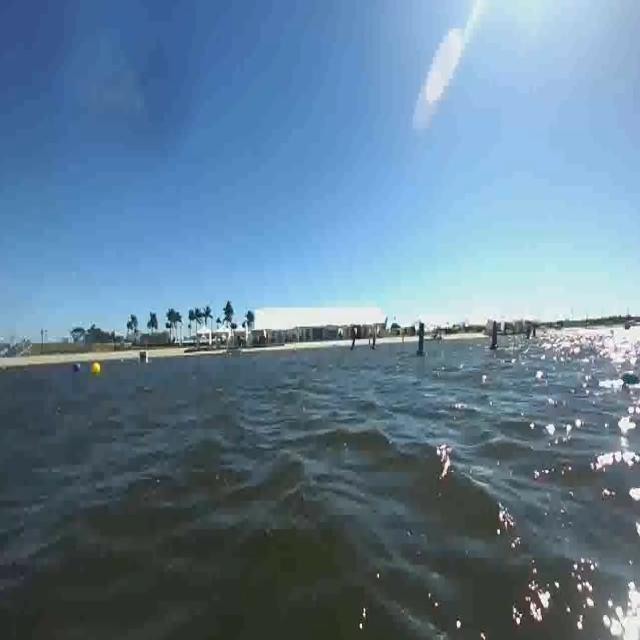green-column-buoy: (416, 317, 426, 357)
red-column-buoy: (489, 318, 500, 353)
yellow-buoy: (92, 360, 102, 374)
